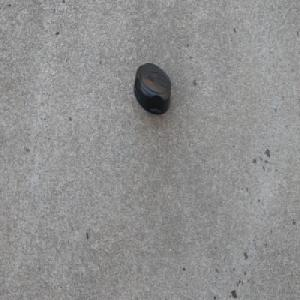FuelCap: (132, 62, 171, 119)
